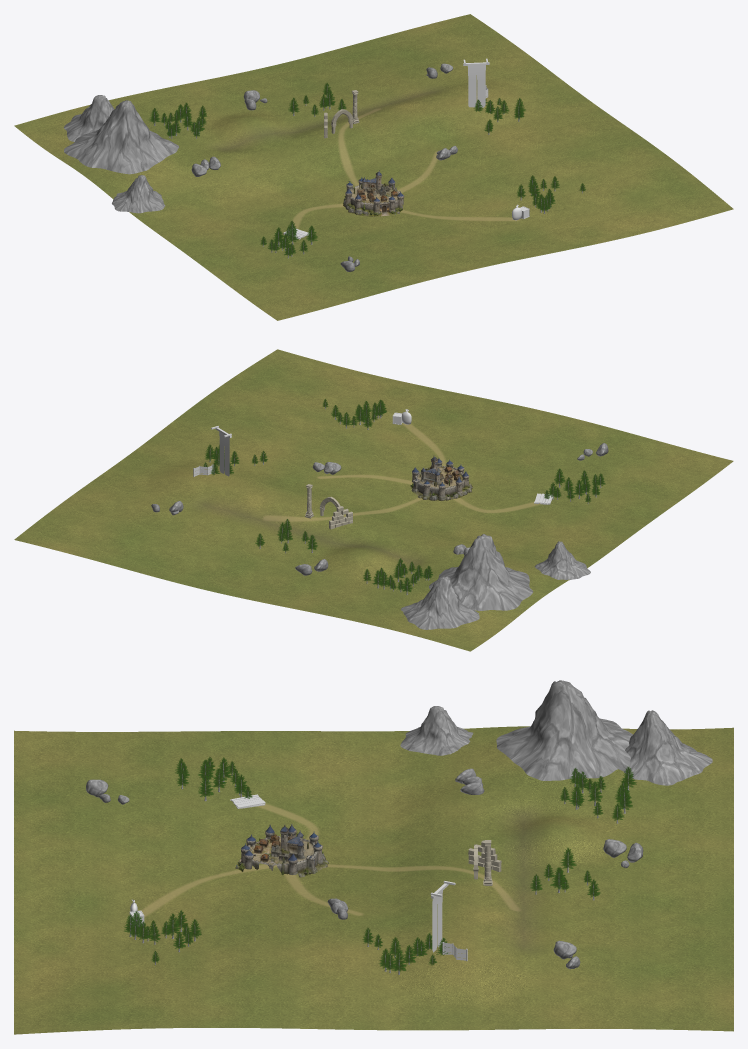
The model's file is artist-output.glb.
3 views of the same model, one above another, from view 1: azimuth 30°, elevation 25°; view 2: azimuth 150°, elevation 25°; view 3: azimuth 270°, elevation 25° (orthographic). The views are drawn at different scales.
Visible parts, largest first — view 1: ZoneOne continuous prairie source, Mountain01_LOD0.001, Eldoria_MultiPiece_Group_05, Mountain01_LOD0.003, Mountain01_LOD0.002, canvas_on_wall; view 2: ZoneOne continuous prairie source, Mountain01_LOD0.001, Mountain01_LOD0.002, Eldoria_MultiPiece_Group_05, Mountain01_LOD0.003, canvas_on_wall; view 3: ZoneOne continuous prairie source, Mountain01_LOD0.001, Mountain01_LOD0.002, Eldoria_MultiPiece_Group_05, Mountain01_LOD0.003, canvas_on_wall.
Boxes of the visible parts, <box> form: ZoneOne continuous prairie source: <box>14,14,733,320</box>; Mountain01_LOD0.001: <box>64,100,178,174</box>; Eldoria_MultiPiece_Group_05: <box>343,170,404,216</box>; Mountain01_LOD0.003: <box>112,175,165,213</box>; Mountain01_LOD0.002: <box>63,95,114,141</box>; canvas_on_wall: <box>463,58,489,107</box>; ZoneOne continuous prairie source: <box>14,349,733,651</box>; Mountain01_LOD0.001: <box>429,534,533,610</box>; Mountain01_LOD0.002: <box>401,576,479,629</box>; Eldoria_MultiPiece_Group_05: <box>410,455,472,500</box>; Mountain01_LOD0.003: <box>534,541,590,580</box>; canvas_on_wall: <box>211,426,231,476</box>; ZoneOne continuous prairie source: <box>14,726,733,1034</box>; Mountain01_LOD0.001: <box>496,680,633,780</box>; Mountain01_LOD0.002: <box>619,710,712,785</box>; Eldoria_MultiPiece_Group_05: <box>235,824,328,877</box>; Mountain01_LOD0.003: <box>400,706,473,755</box>; canvas_on_wall: <box>430,881,455,952</box>.
Size of the model in its own units: 245 by 32.68 by 240.
Materials: 17 (6 with a texture image).
